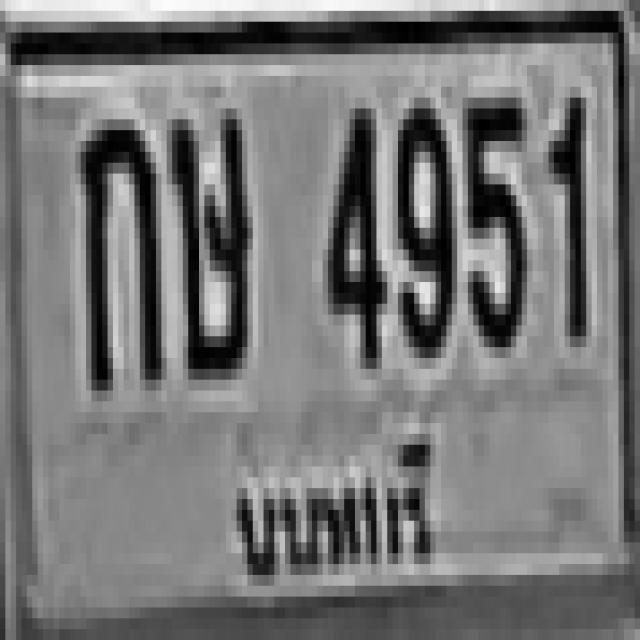1: (543, 87, 581, 336)
10GorGai: (75, 114, 156, 385)
4: (323, 98, 382, 358)
48SorRueSi: (167, 98, 247, 368)
5: (462, 87, 522, 347)
9: (392, 98, 452, 347)
Nonthaburi: (225, 420, 446, 590)
